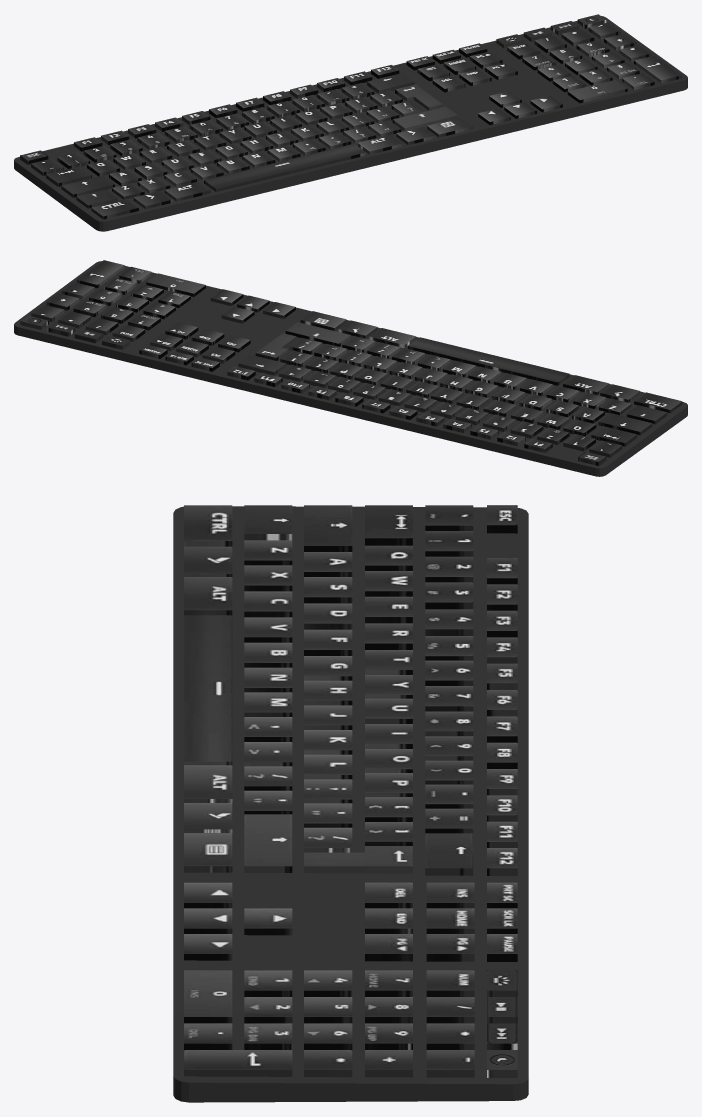
File: KeyBoard.obj
The picture shows the model from 3 angles, top to bottom: view 1: azimuth 30°, elevation 25°; view 2: azimuth 150°, elevation 25°; view 3: azimuth 270°, elevation 25°; orthographic projection. The views are drawn at different scales.
Visible parts, largest first — view 1: SM_Keyboard; view 2: SM_Keyboard; view 3: SM_Keyboard.
Boxes of the visible parts, x1,y1,x2,y2 form: SM_Keyboard: (14, 14, 687, 231); SM_Keyboard: (14, 260, 687, 476); SM_Keyboard: (173, 505, 528, 1102).
Bounding box in the file's own units: 0.6332 × 0.0134 × 0.1648.
